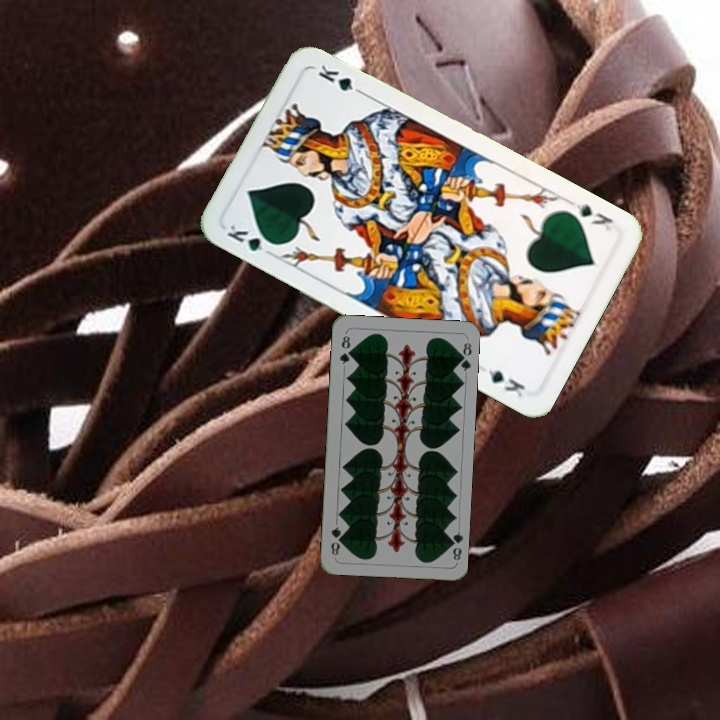G8: (444, 528, 465, 563), (335, 331, 353, 367)
GK: (222, 220, 280, 254), (565, 197, 616, 234)
